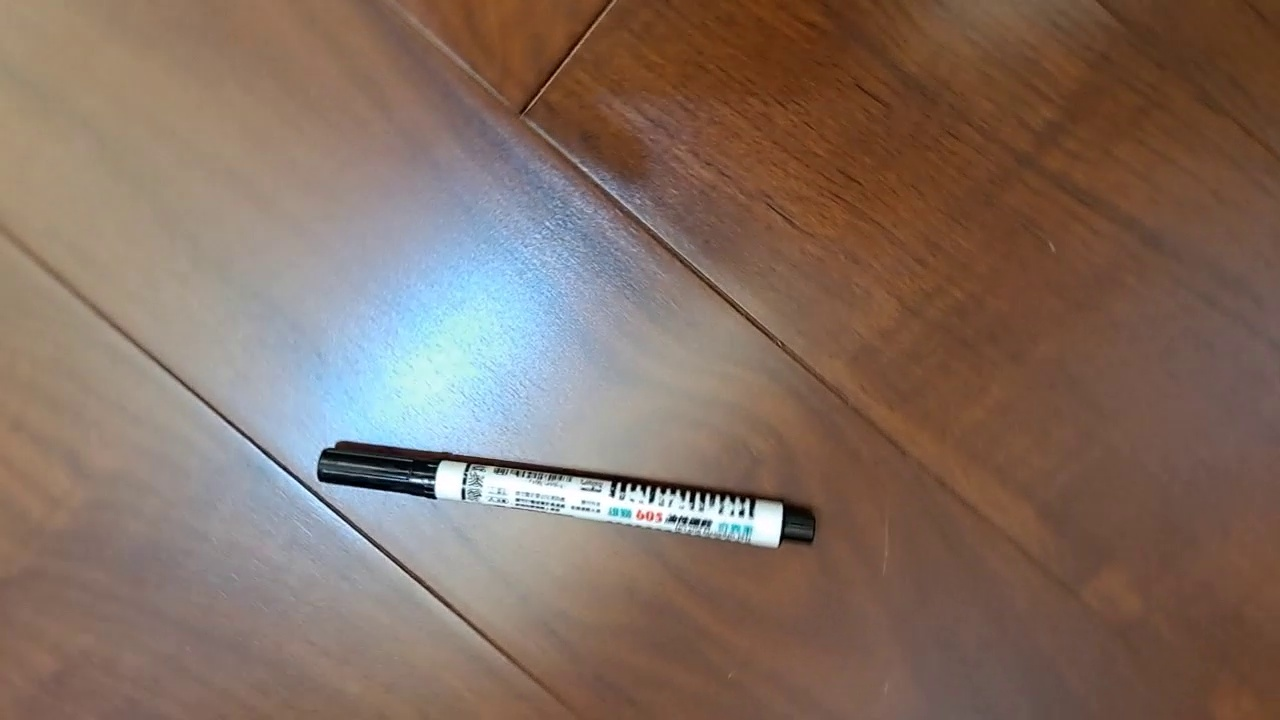pen: (316, 446, 815, 551)
